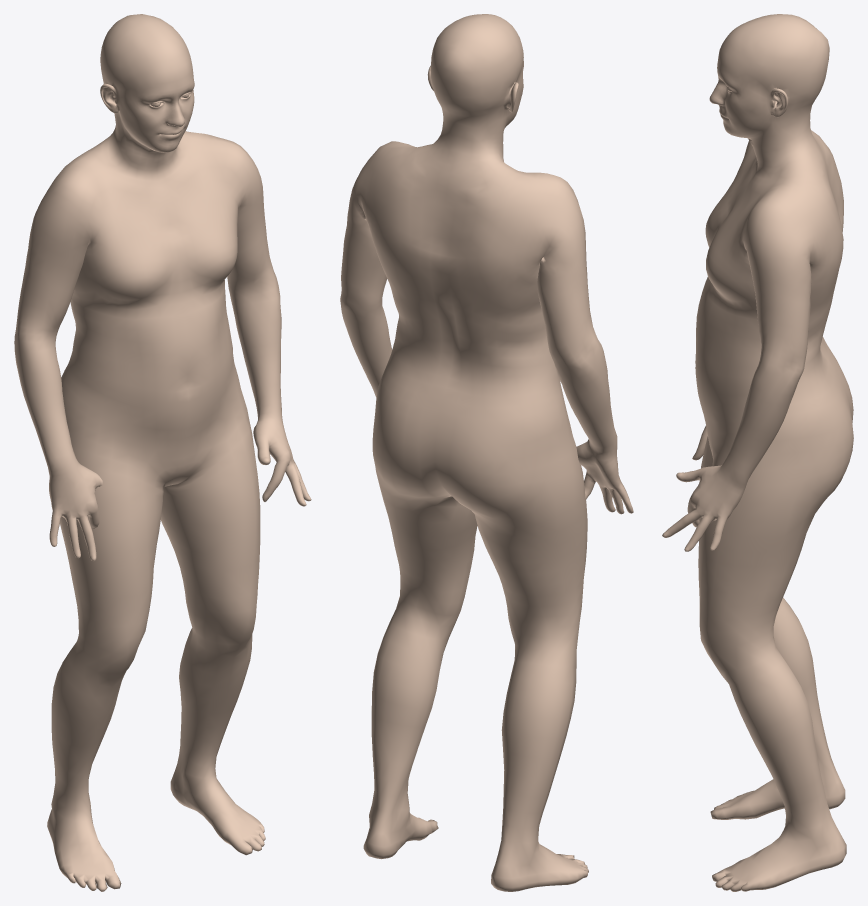
The model's file is WORD-00973.glb.
The picture shows the model from 3 angles, left to right: view 1: azimuth 30°, elevation 25°; view 2: azimuth 150°, elevation 25°; view 3: azimuth 270°, elevation 25°; orthographic projection. The views are drawn at different scales.
Bounding box in the file's own units: 0.5484 × 1.72 × 0.3594.
